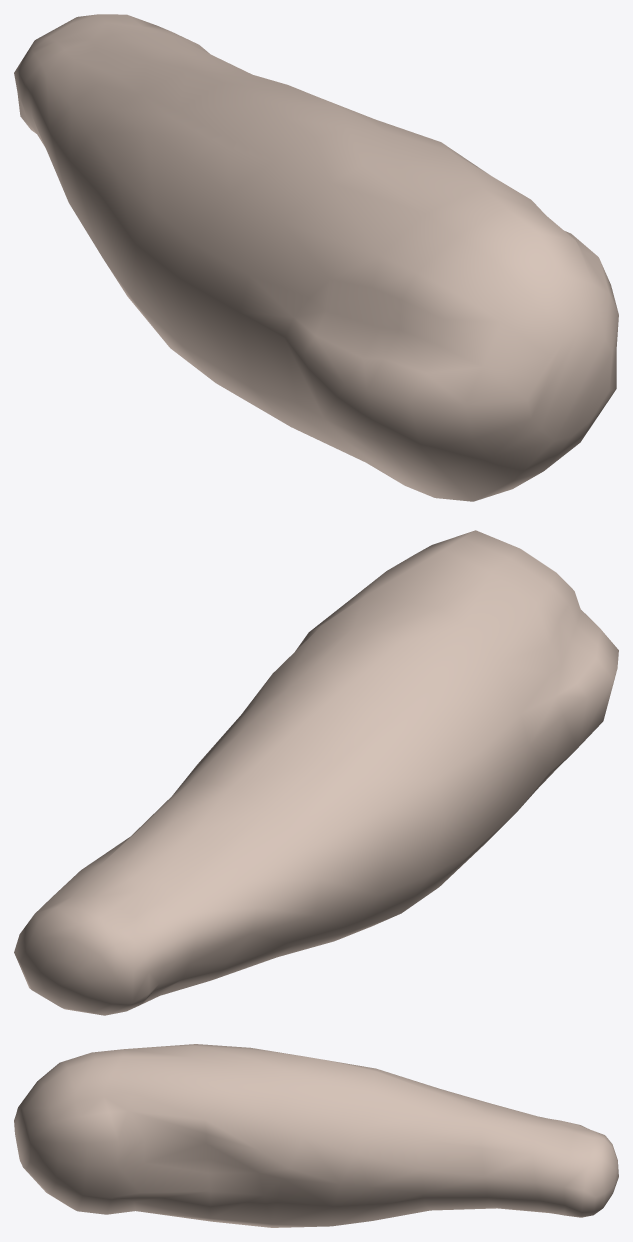
File: LForearmLink.dae
3 views of the same model, one above another, from view 1: azimuth 30°, elevation 25°; view 2: azimuth 150°, elevation 25°; view 3: azimuth 270°, elevation 25° (orthographic). The views are drawn at different scales.
Parts seen in each view (by area): view 1: ShapeIndexedFaceSet; view 2: ShapeIndexedFaceSet; view 3: ShapeIndexedFaceSet.
Boxes of the visible parts, <box> form: ShapeIndexedFaceSet: <box>14,14,618,501</box>; ShapeIndexedFaceSet: <box>14,530,618,1015</box>; ShapeIndexedFaceSet: <box>14,1044,618,1227</box>.
Bounding box in the file's own units: 0.0928 × 0.3023 × 0.0969.
